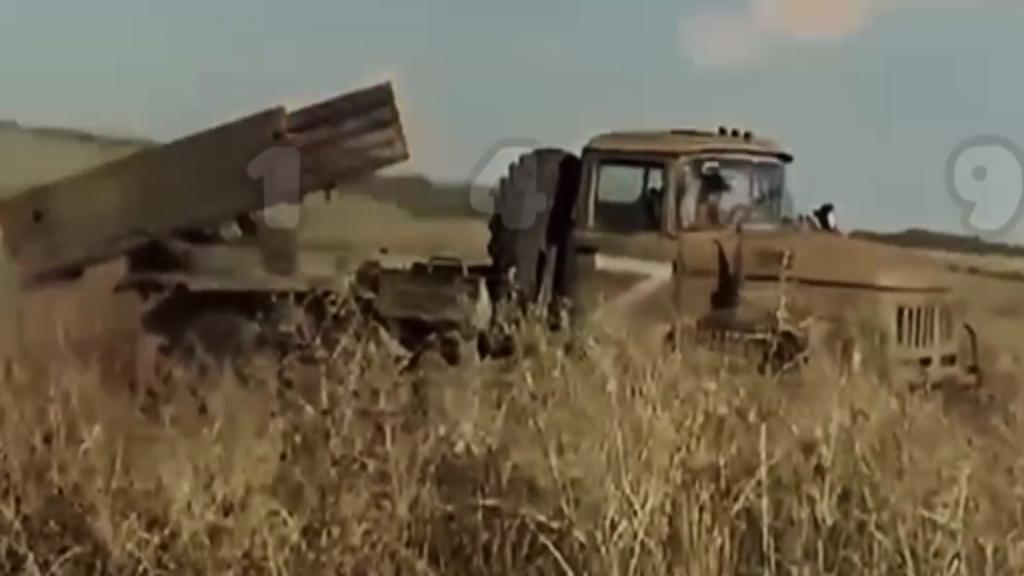MLRS: (0, 74, 978, 457)
